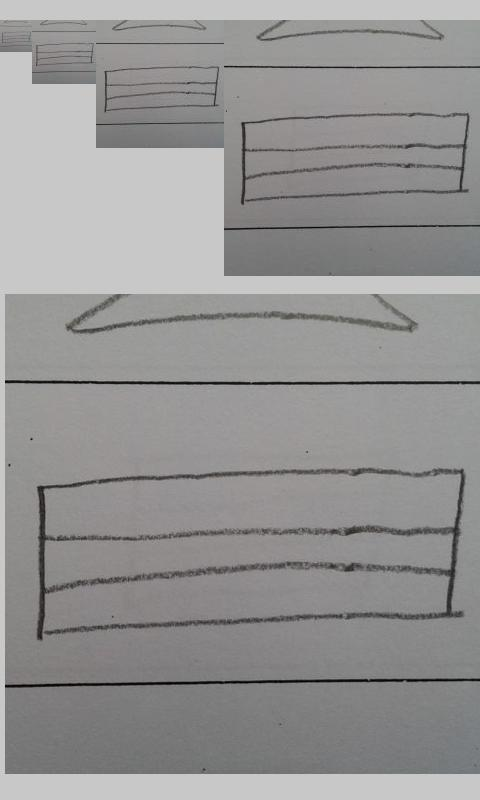list_view: (34, 464, 467, 642), (241, 111, 472, 203), (104, 65, 220, 112), (35, 42, 93, 67), (1, 30, 31, 44)
